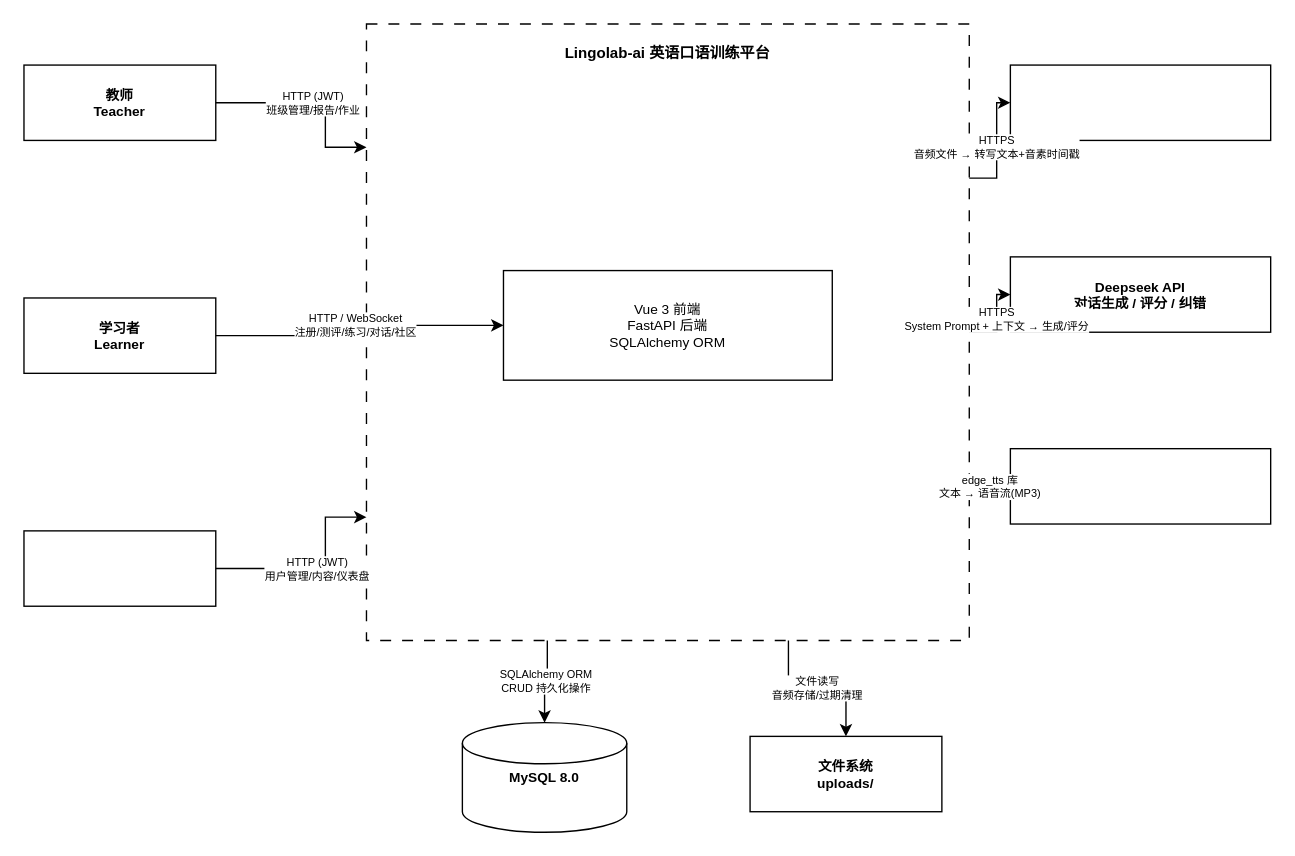
This 1295x856 diagram has some shape labels left out. Here are the shapes that lost their labels. From the top down, the centre of each, then its label:
the point at 1140,102: Whisper API 语音转写 + 音素对齐
the point at 1140,485: Edge TTS 文本转语音合成
the point at 119,568: 运营管理员 Admin
